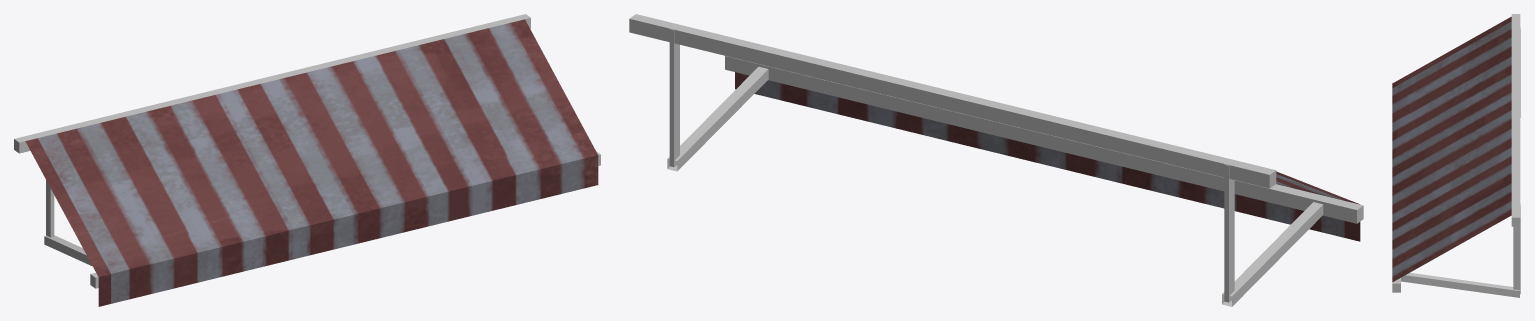
Rendered from jiedao_BJ_003.fbx.
3 views of the same model, side by side, from view 1: azimuth 30°, elevation 25°; view 2: azimuth 150°, elevation 25°; view 3: azimuth 270°, elevation 25° (orthographic). The views are drawn at different scales.
Visible parts, largest first — view 1: jiedao_BJ_003; view 2: jiedao_BJ_003; view 3: jiedao_BJ_003.
Boxes of the visible parts, x1,y1,x2,y2 form: jiedao_BJ_003: (14,14,600,306); jiedao_BJ_003: (629,14,1363,306); jiedao_BJ_003: (1392,14,1520,297).
Bounding box in the file's own units: 249 × 66.27 × 52.49.
